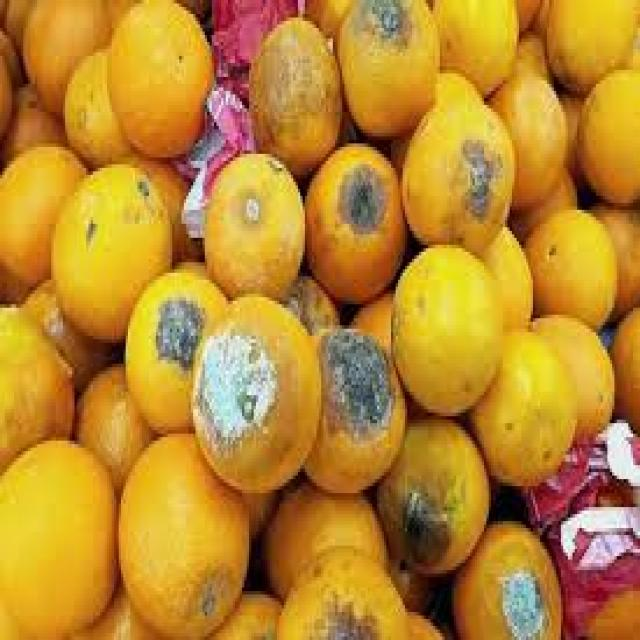organic waste: (0, 0, 638, 637), (116, 426, 252, 636), (188, 290, 319, 490), (0, 437, 114, 637), (49, 161, 170, 339), (388, 238, 502, 409), (398, 87, 512, 252), (300, 318, 403, 493), (121, 266, 230, 430), (374, 416, 488, 570), (470, 325, 575, 483), (105, 0, 212, 154), (302, 140, 402, 297), (246, 10, 340, 175), (200, 147, 303, 297), (258, 479, 384, 598), (333, 0, 437, 140), (0, 139, 88, 304), (449, 514, 559, 637), (16, 0, 133, 112), (72, 356, 158, 504), (0, 300, 72, 476), (484, 66, 566, 210), (526, 311, 612, 448), (274, 546, 402, 636), (524, 206, 612, 322), (19, 272, 107, 384), (538, 0, 638, 91), (119, 147, 200, 255), (60, 45, 135, 161), (575, 63, 638, 199), (426, 0, 517, 94), (475, 220, 533, 332), (563, 552, 638, 636), (588, 199, 638, 315), (53, 577, 149, 637), (0, 80, 61, 172), (510, 161, 577, 234), (605, 304, 638, 434), (207, 584, 277, 637), (347, 284, 393, 354), (554, 77, 586, 175), (98, 0, 209, 28), (282, 270, 335, 326), (384, 553, 440, 605), (505, 24, 547, 80), (240, 486, 279, 539), (0, 0, 37, 49), (302, 0, 353, 35), (405, 605, 447, 637), (0, 59, 16, 136), (0, 28, 21, 80), (514, 0, 540, 28)
